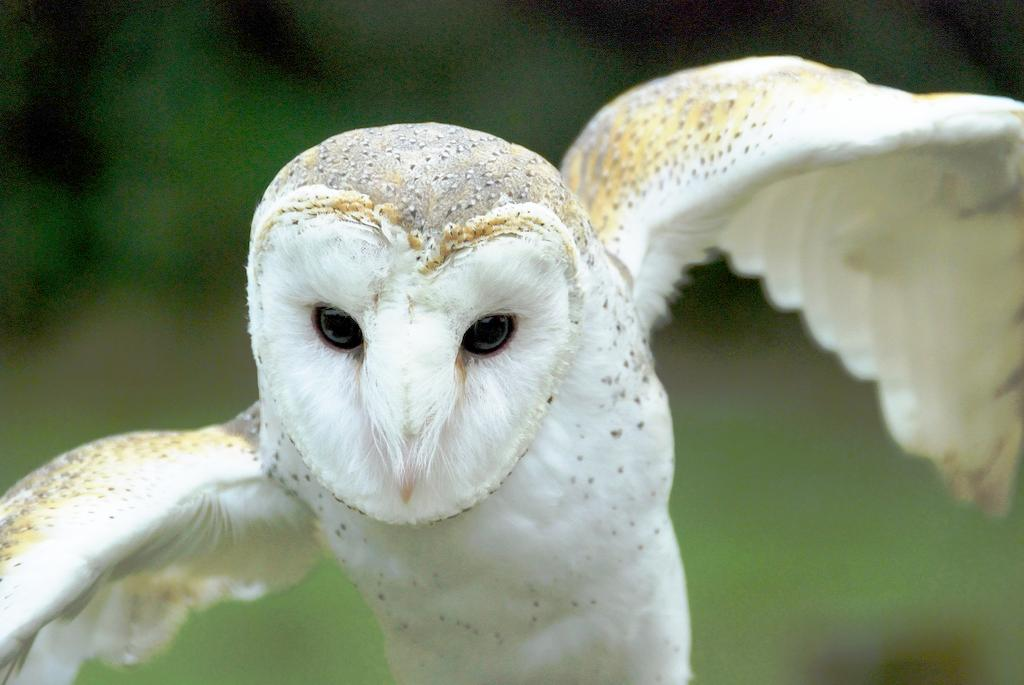Owl: (0, 57, 1023, 684)
